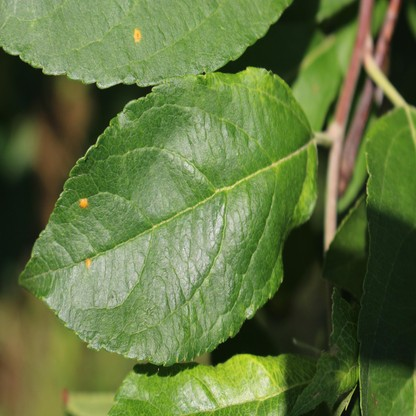rust: (79, 197, 89, 207), (133, 28, 140, 41), (85, 257, 91, 267)
